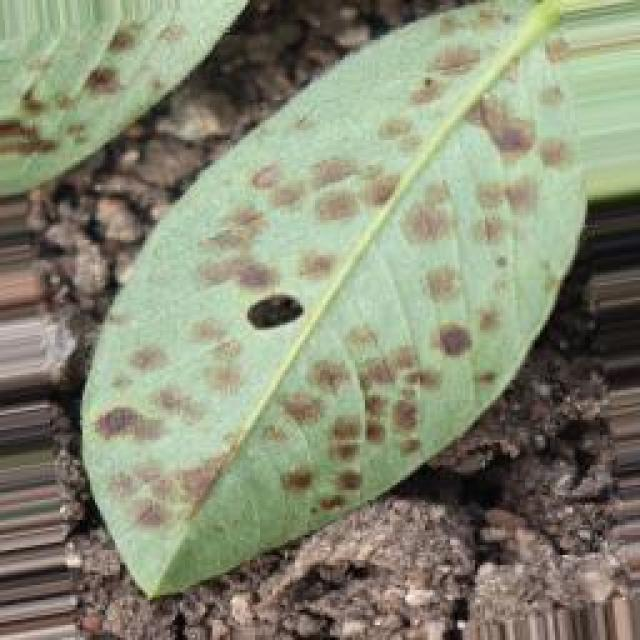Whitefly: (27, 0, 605, 549)
